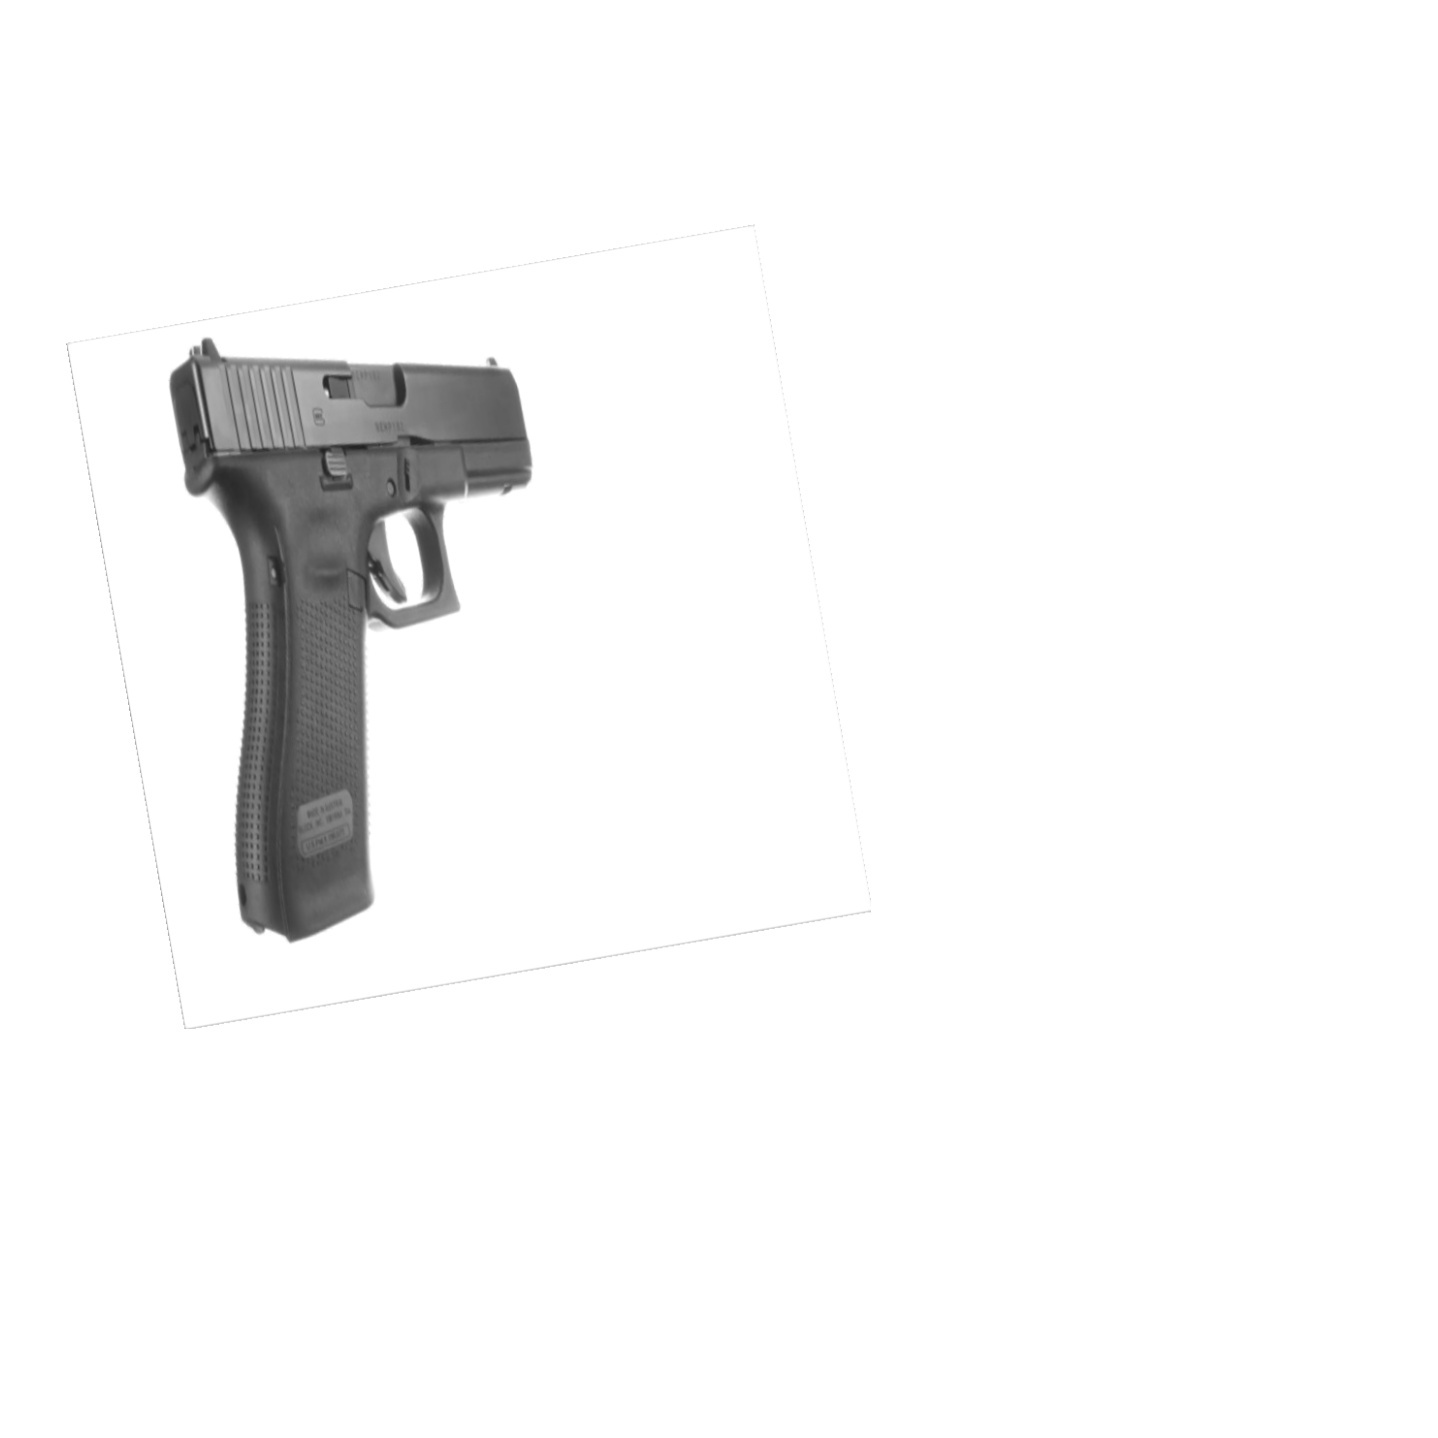gun: (165, 336, 539, 945)
